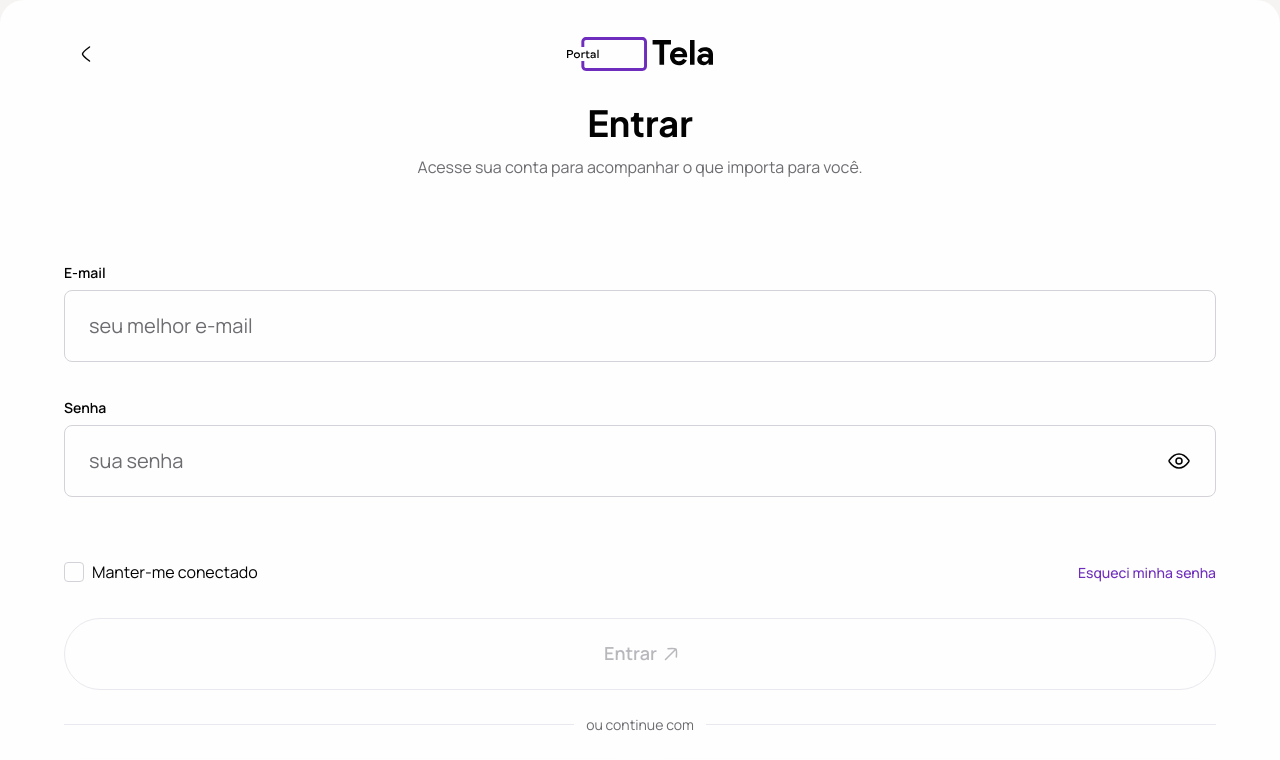
Test case: LoginPage › credenciais erradas: mensagem geral e os dois campos em erro, sem dizer qual errou
Type "test@gmail.com" into the field labelled "E-mail" at coordinates (640, 326), box [89,311,1191,341]
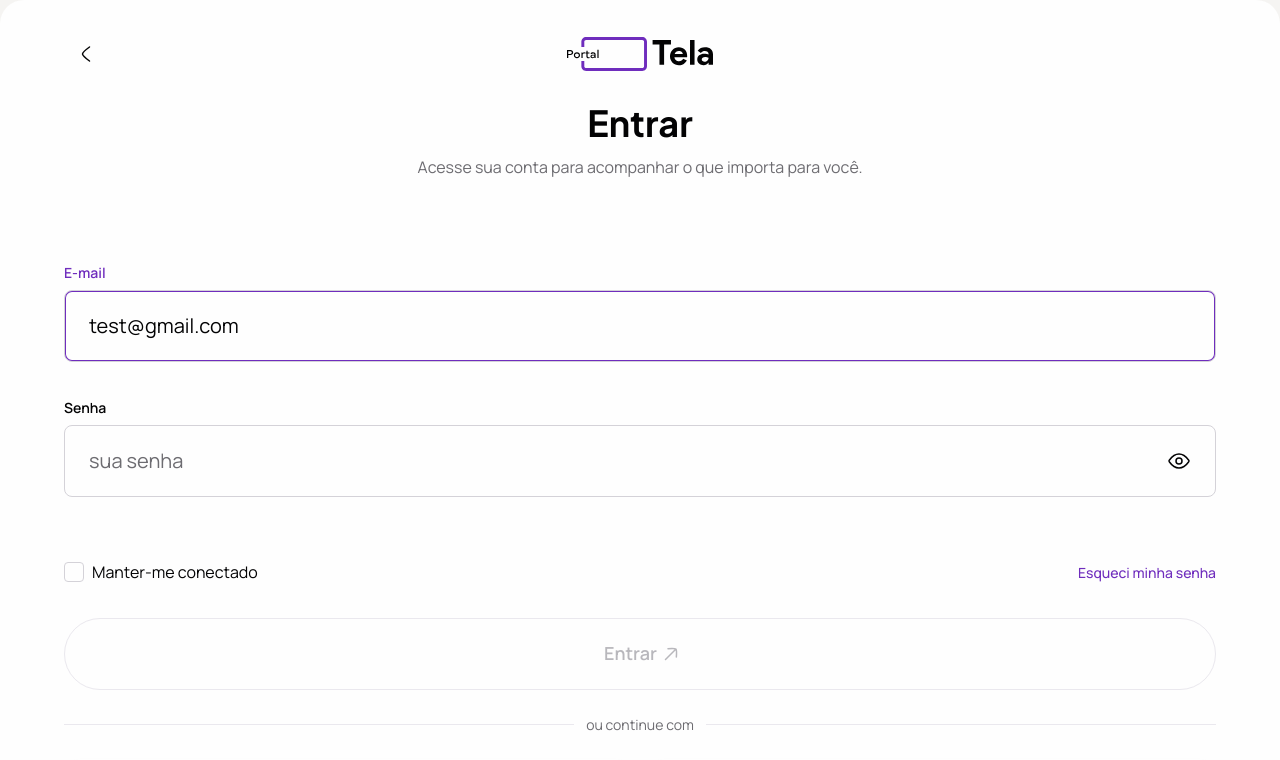
Type "senhaerrada" into the password field labelled "Senha" at coordinates (624, 461), box [89,446,1159,476]
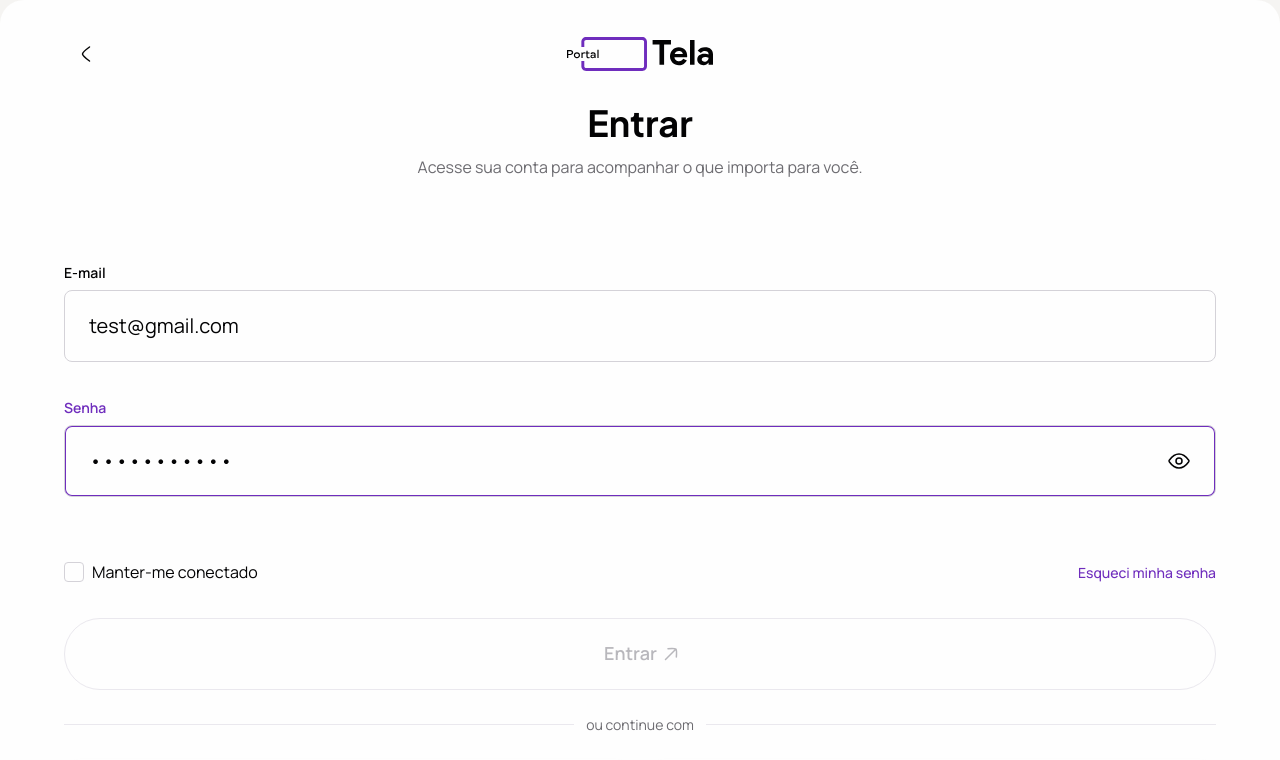
Click the checkbox labelled "Manter-me conectado" at coordinates (175, 572), box [92,560,258,584]
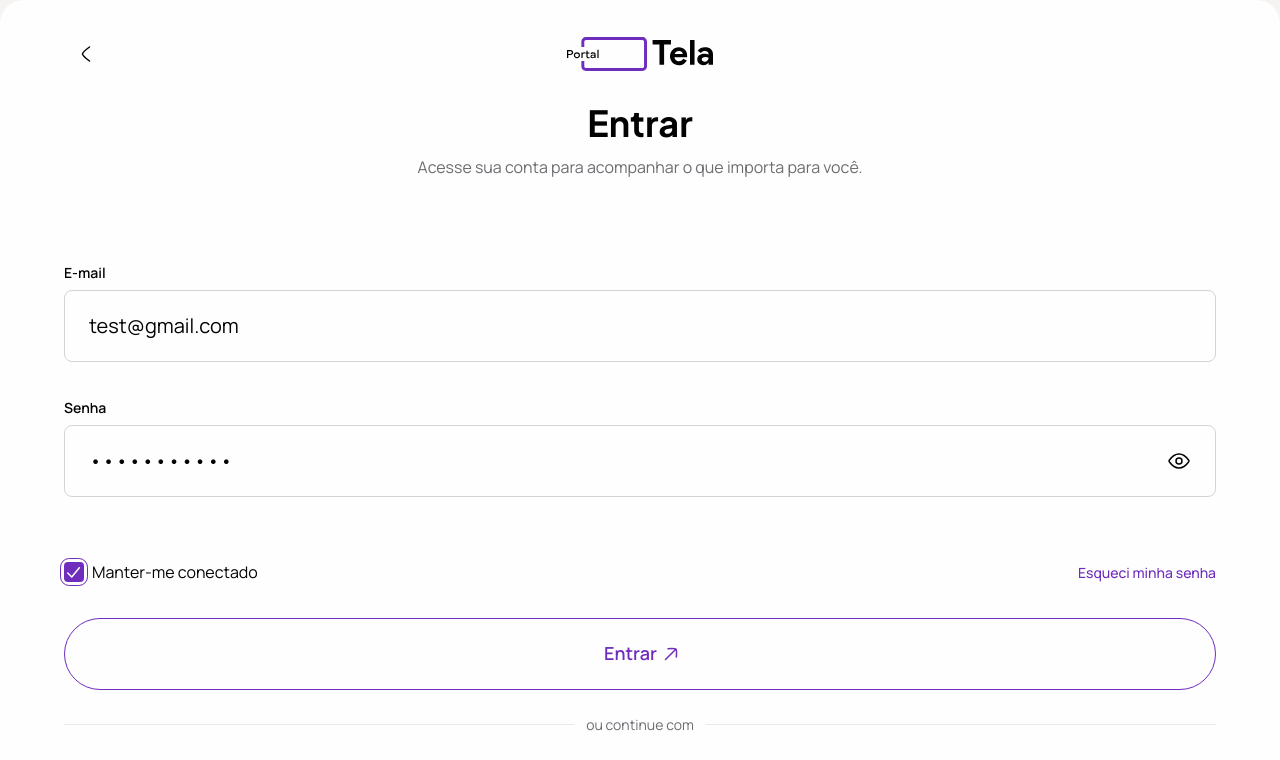
Click the button "Entrar" at coordinates (640, 654), box [64,618,1216,690]
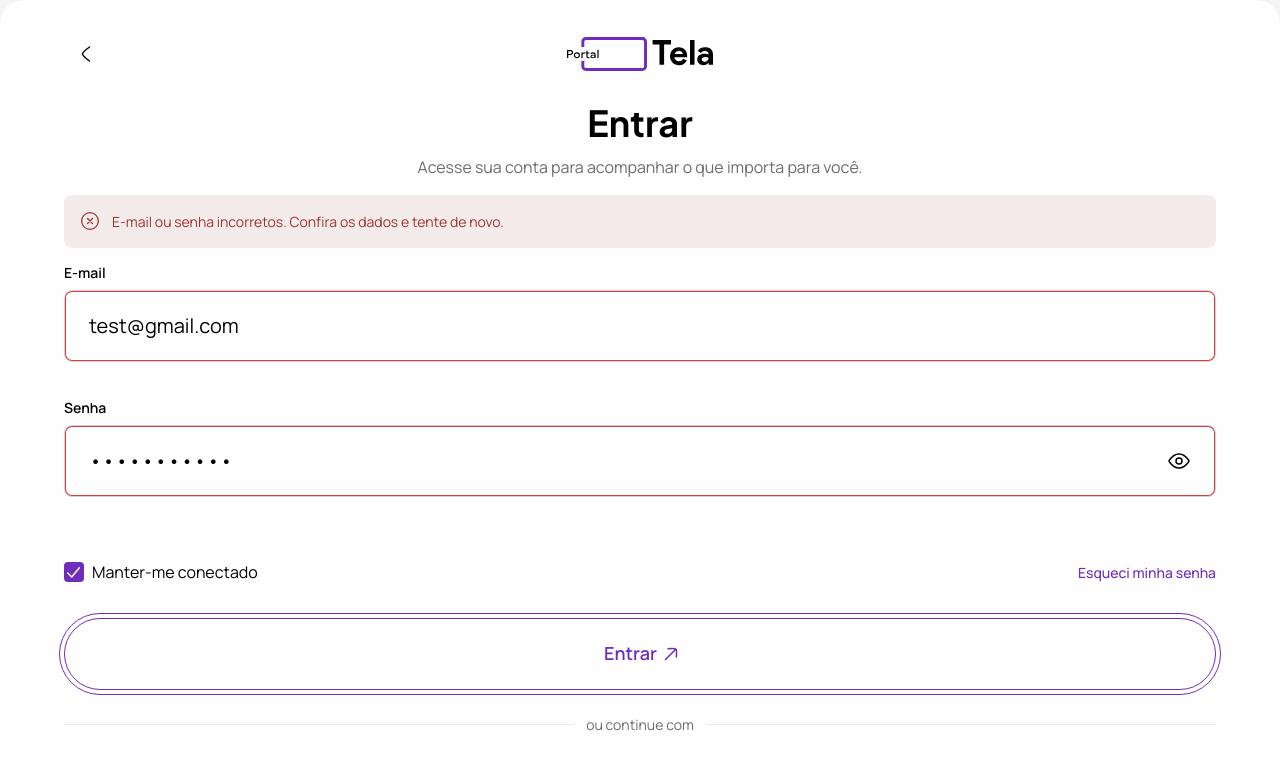
Expected: the message reads "E-mail ou senha incorretos. Confira os dados e tente de novo.", [112,212,504,231]
